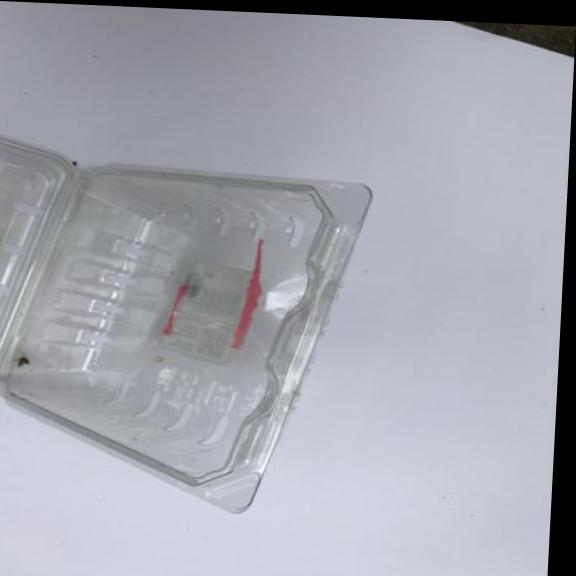Plastik: (0, 129, 380, 525)
